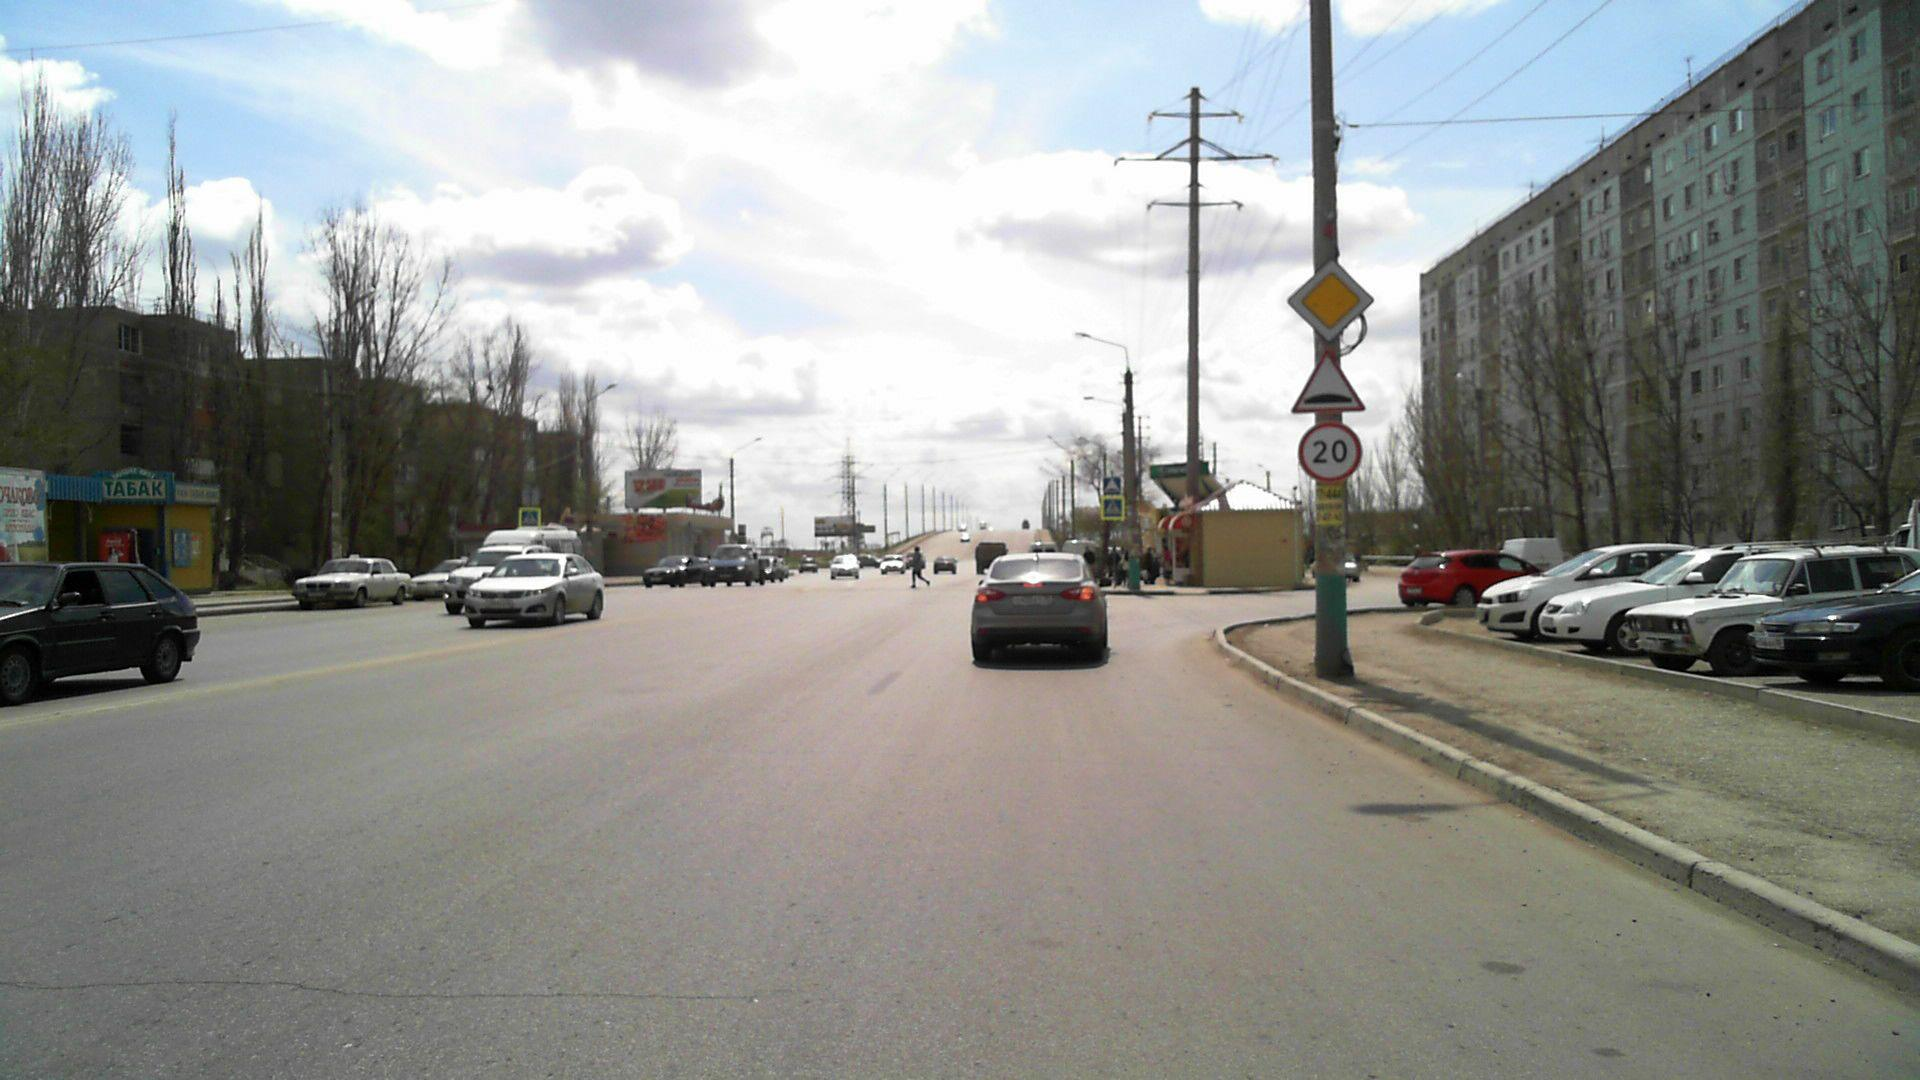1_17: (1287, 342, 1366, 419)
2_1: (1286, 257, 1374, 339)
3_24: (1294, 419, 1365, 480)
5_19_1: (1106, 498, 1124, 516)
5_19_2: (522, 508, 539, 526)
5_20: (1102, 475, 1124, 493)
